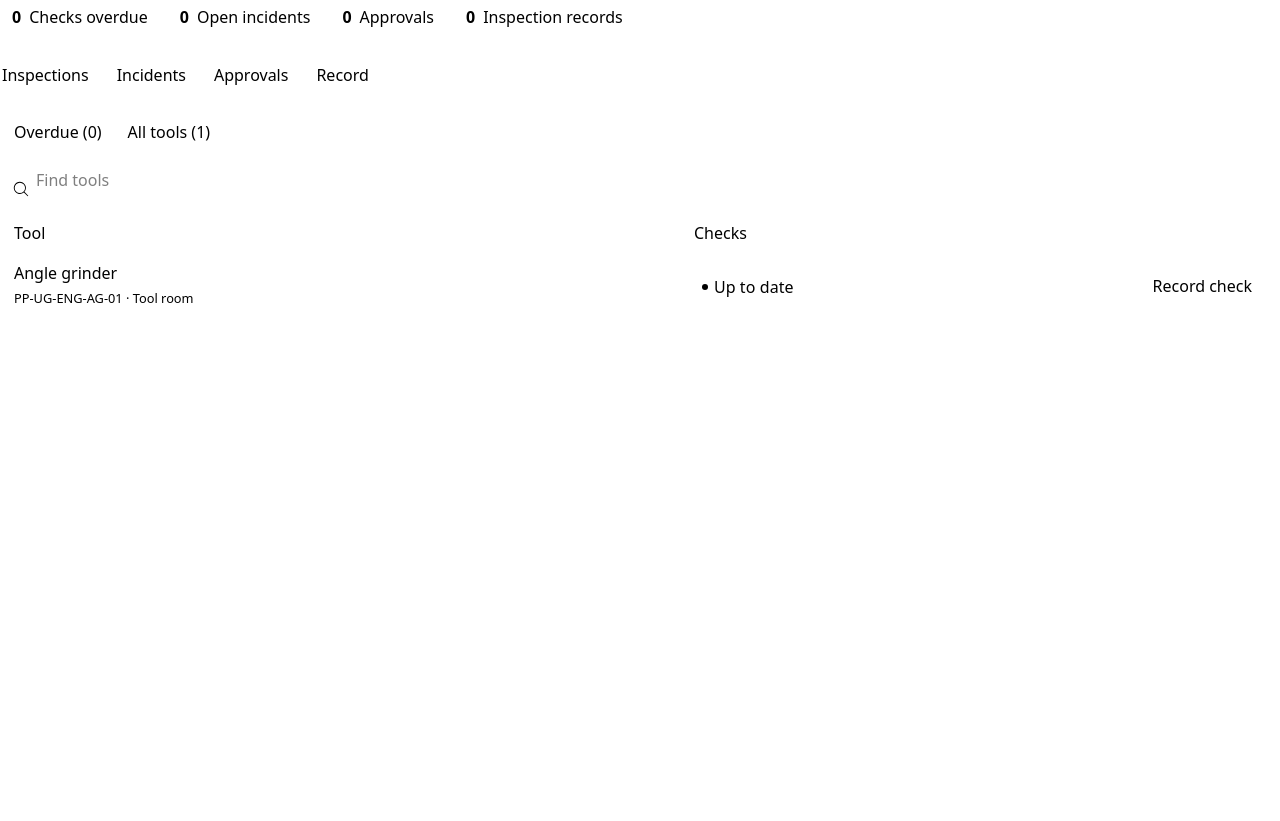
Test: ToolsCompliance › incident submit with 3 chars shows field errors and focuses one
Click the tab "Record": {"x": 343, "y": 75} [314,55,371,95]
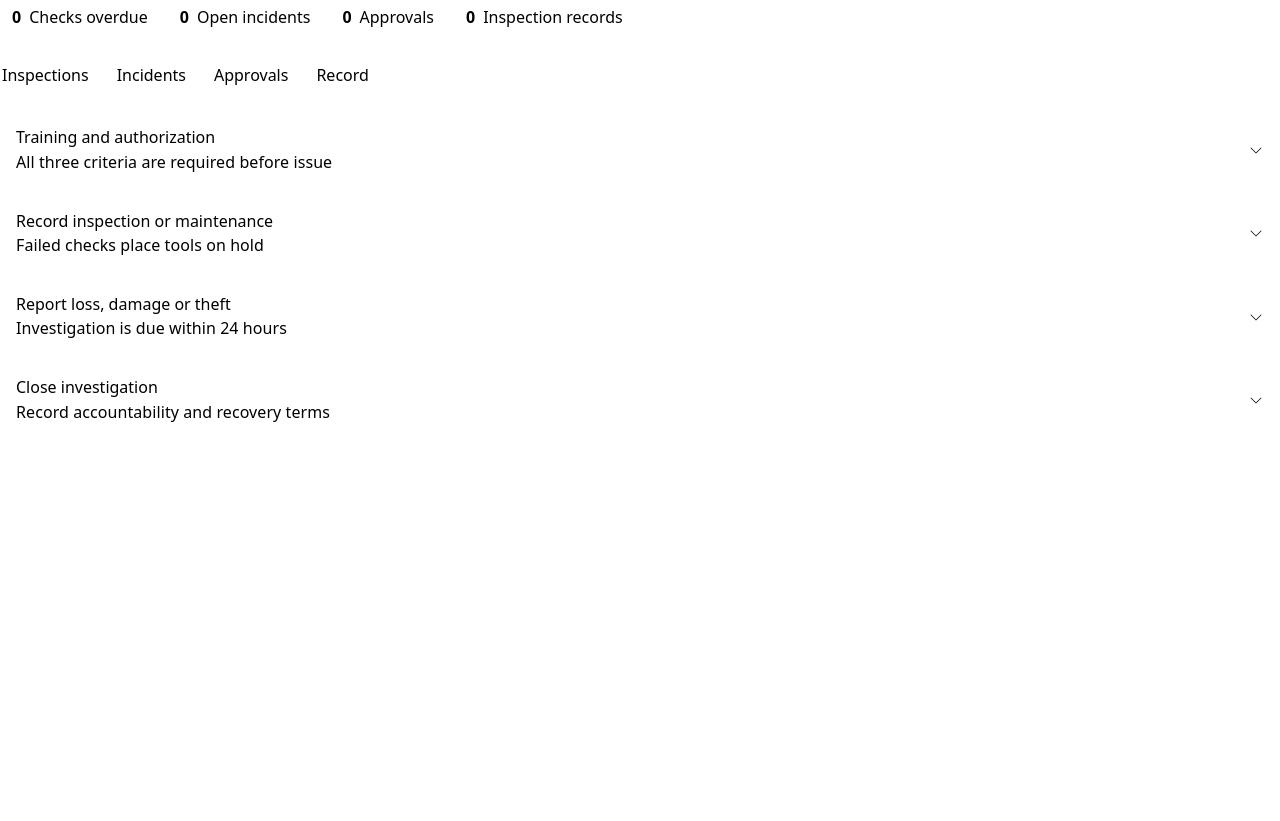
Click the text "Report loss, damage or theft": {"x": 123, "y": 304} [16,293,231,315]
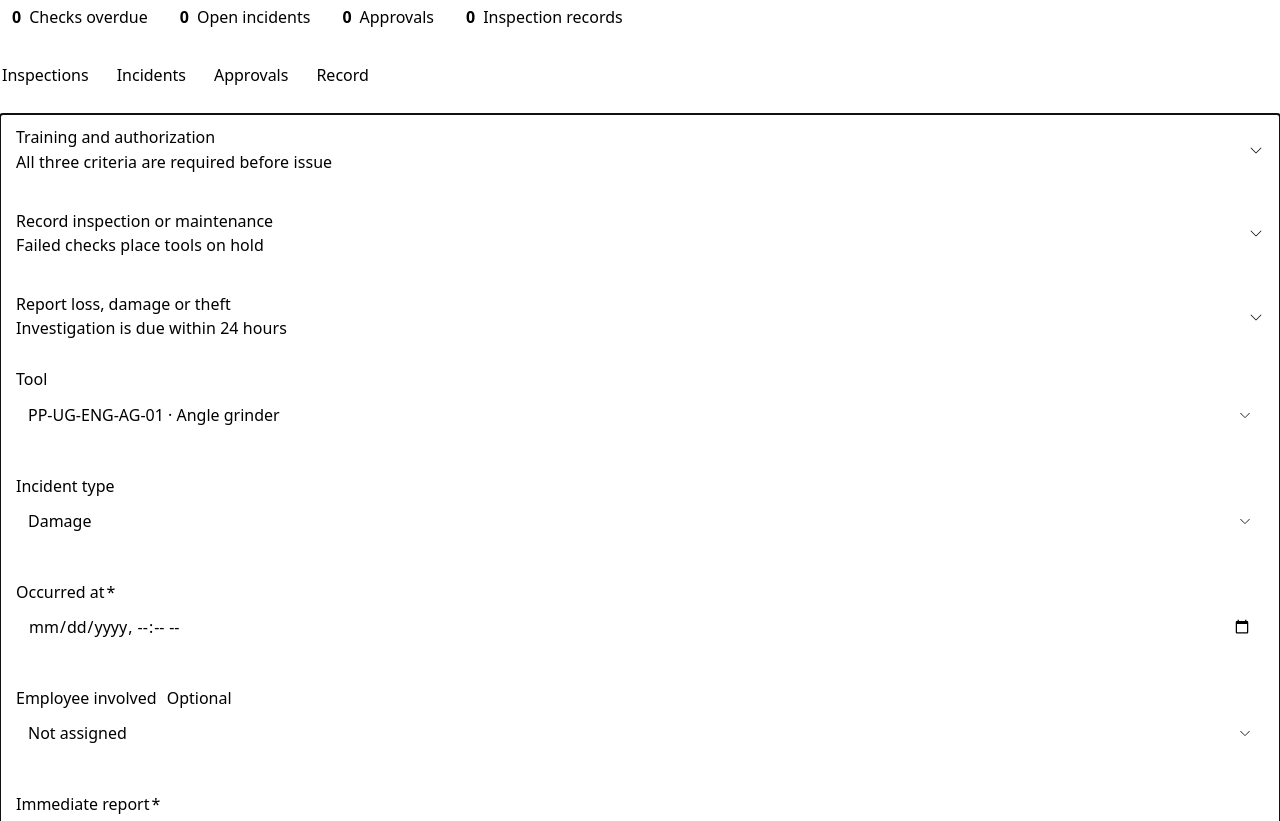
In the field labelled "Occurred at*": {"x": 640, "y": 627} [16,609,1264,645], type "2030-02-01T10:30"
(page scrolled)
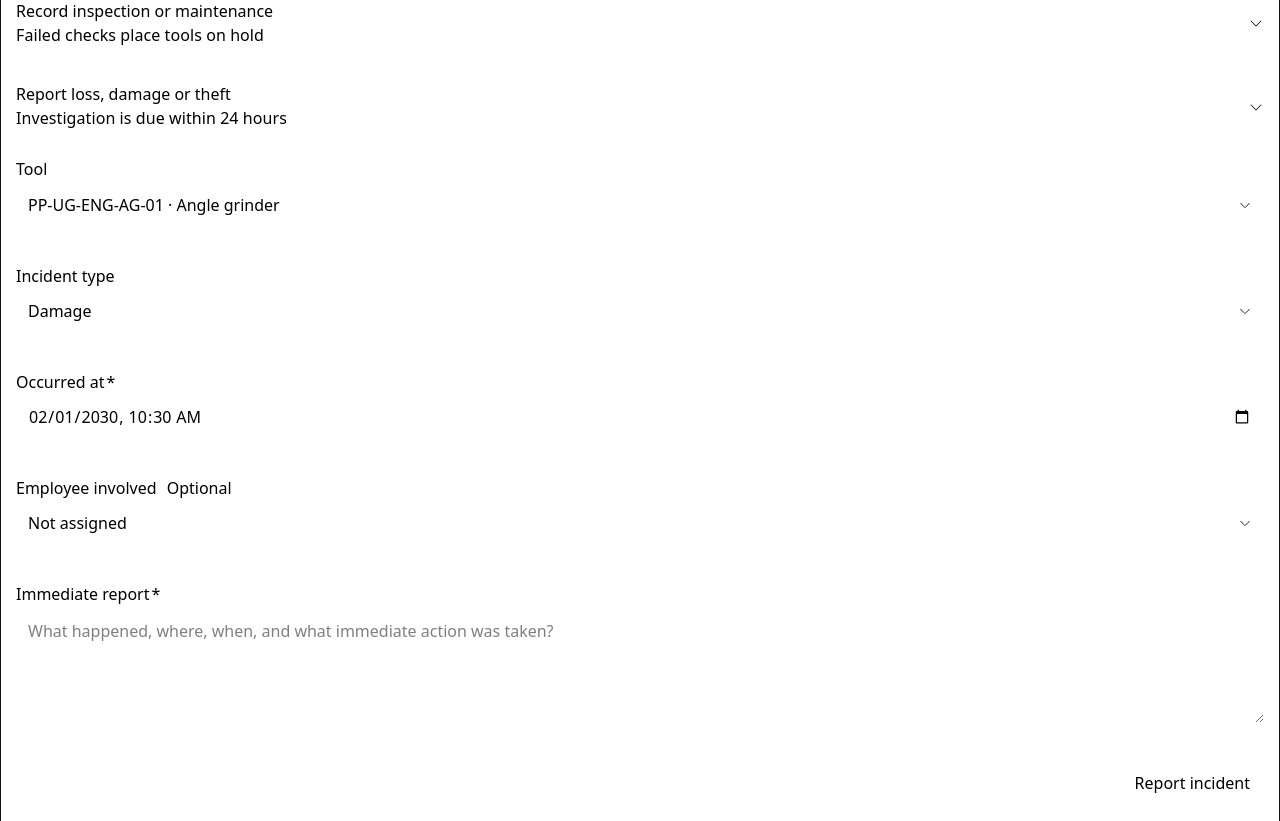
Replace the text in the text box labelled "Immediate report*" with "abc": {"x": 640, "y": 667} [16,611,1264,723]
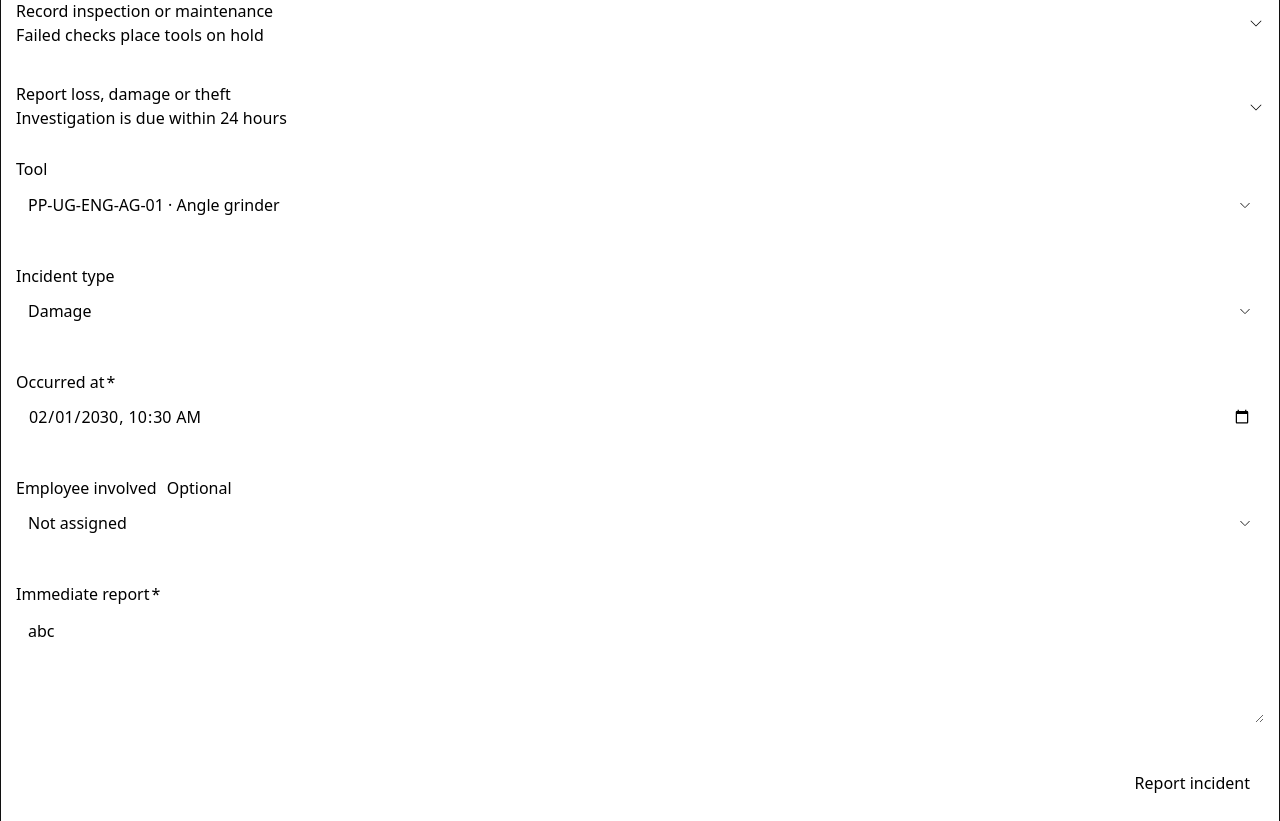
Click the button "Report incident": {"x": 1192, "y": 783} [1121,765,1264,801]
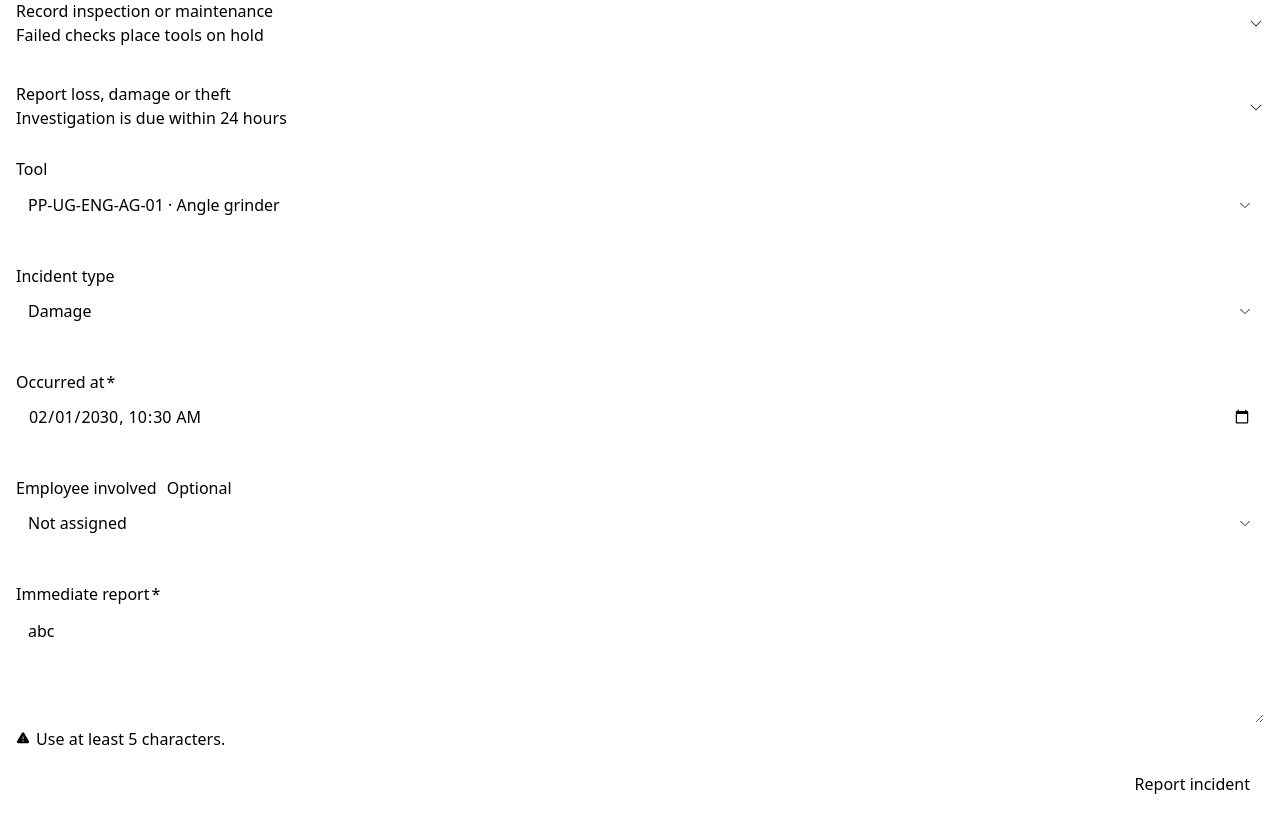
Expected: the text "Use at least 5 characters." is shown, [36,729,225,750]
